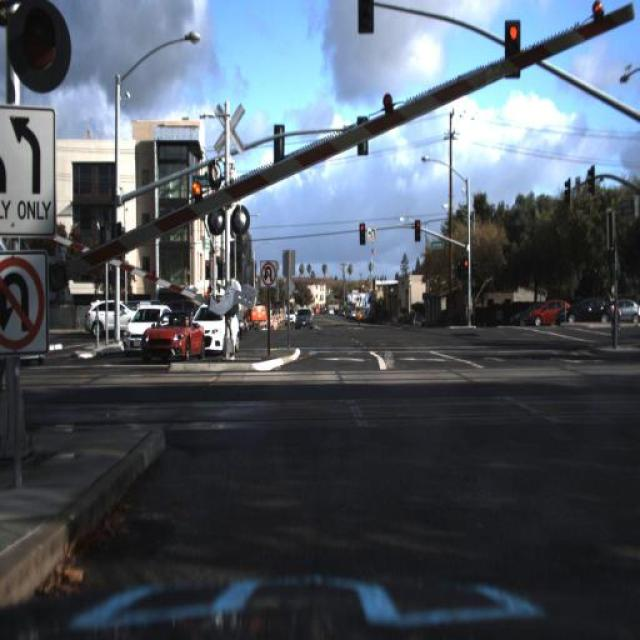car: (134, 310, 203, 360), (190, 300, 241, 355), (556, 293, 622, 329), (115, 304, 157, 355), (529, 294, 575, 330), (508, 300, 542, 328), (290, 300, 316, 332), (295, 305, 313, 329)
trafficLight-Green: (16, 2, 66, 83), (357, 1, 375, 36)
trafficLight-RedLeft: (503, 20, 522, 78), (412, 213, 423, 246), (462, 252, 471, 284), (358, 219, 367, 246), (414, 216, 420, 242)
